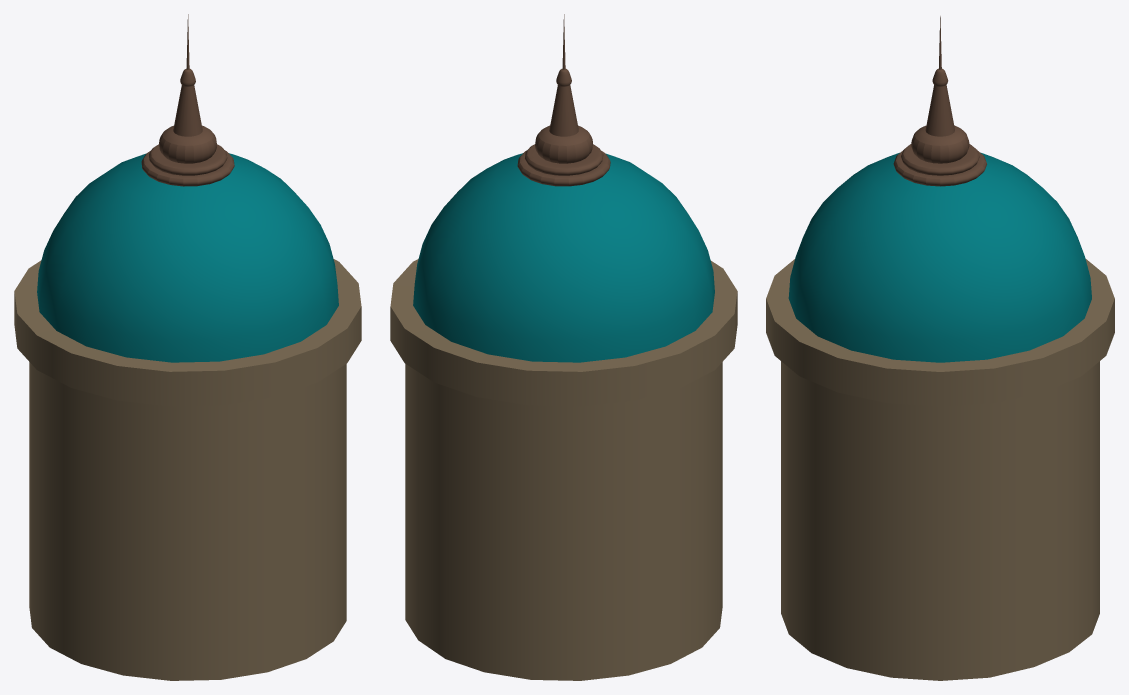
File: Dome.fbx
3 renders of one model, left to right at view 1: azimuth 30°, elevation 25°; view 2: azimuth 150°, elevation 25°; view 3: azimuth 270°, elevation 25°, orthographic.
Visible parts, largest first — view 1: SphereSpike_LOD0; view 2: SphereSpike_LOD0; view 3: SphereSpike_LOD0.
Boxes of the visible parts, x1,y1,x2,y2 form: SphereSpike_LOD0: [14, 14, 361, 680]; SphereSpike_LOD0: [390, 14, 737, 680]; SphereSpike_LOD0: [766, 16, 1114, 680].
Bounding box in the file's own units: 5.04 × 9.56 × 5.04.
